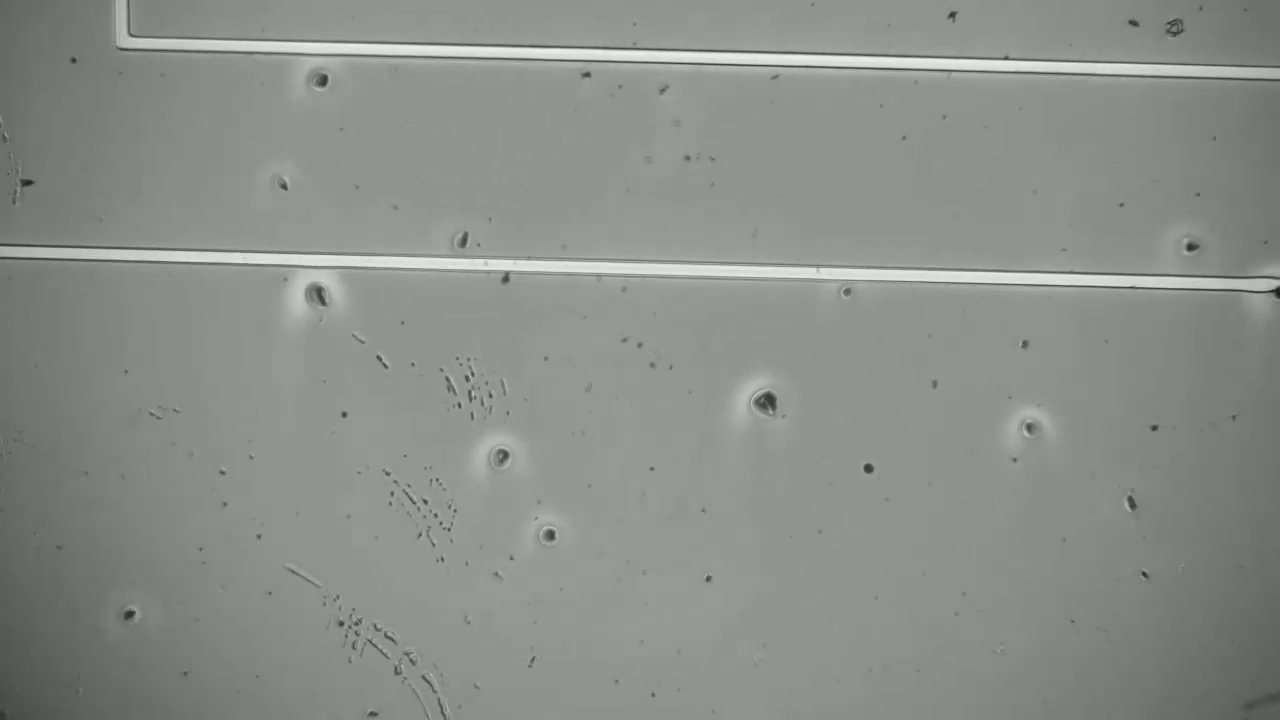stains_enbedded: (1248, 263, 1279, 303)
